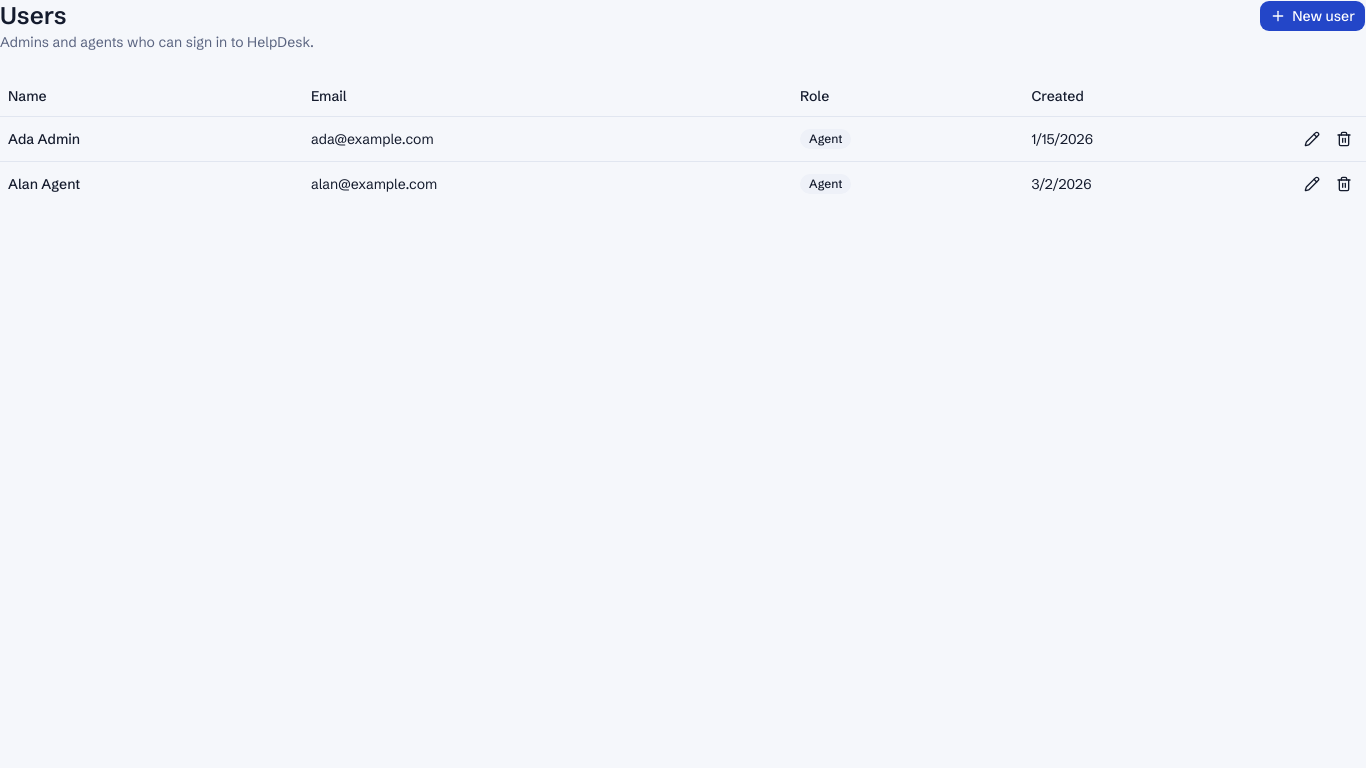
Test: UsersPage › Edit user dialog › closes and reloads the users after saving
Expected: the table is shown, left=0, top=76, right=1365, bottom=206
Click the button named "Edit Alan Agent".
click(1312, 184)  # box left=1298, top=170, right=1326, bottom=198
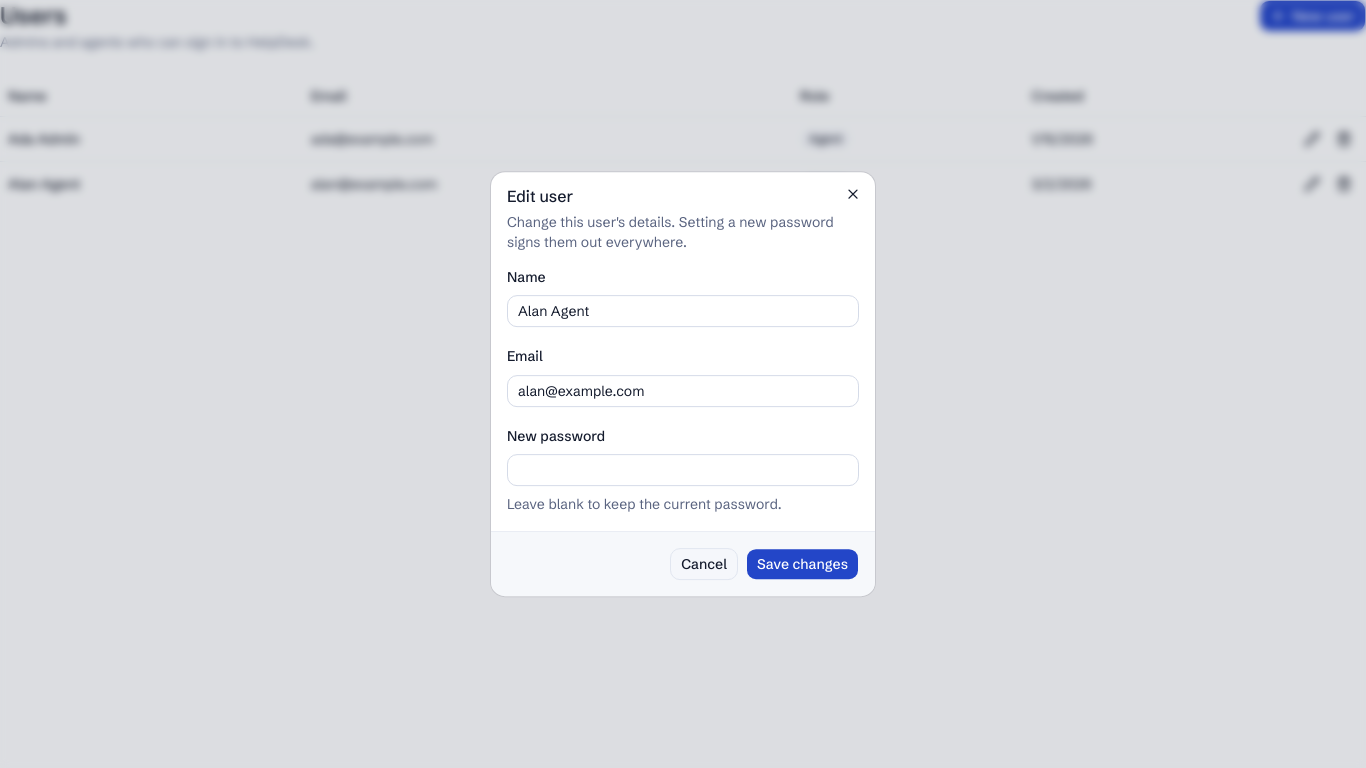
Replace the text in the field labelled "Name" with "Alan Turing" at (683, 311), box left=507, top=295, right=859, bottom=327
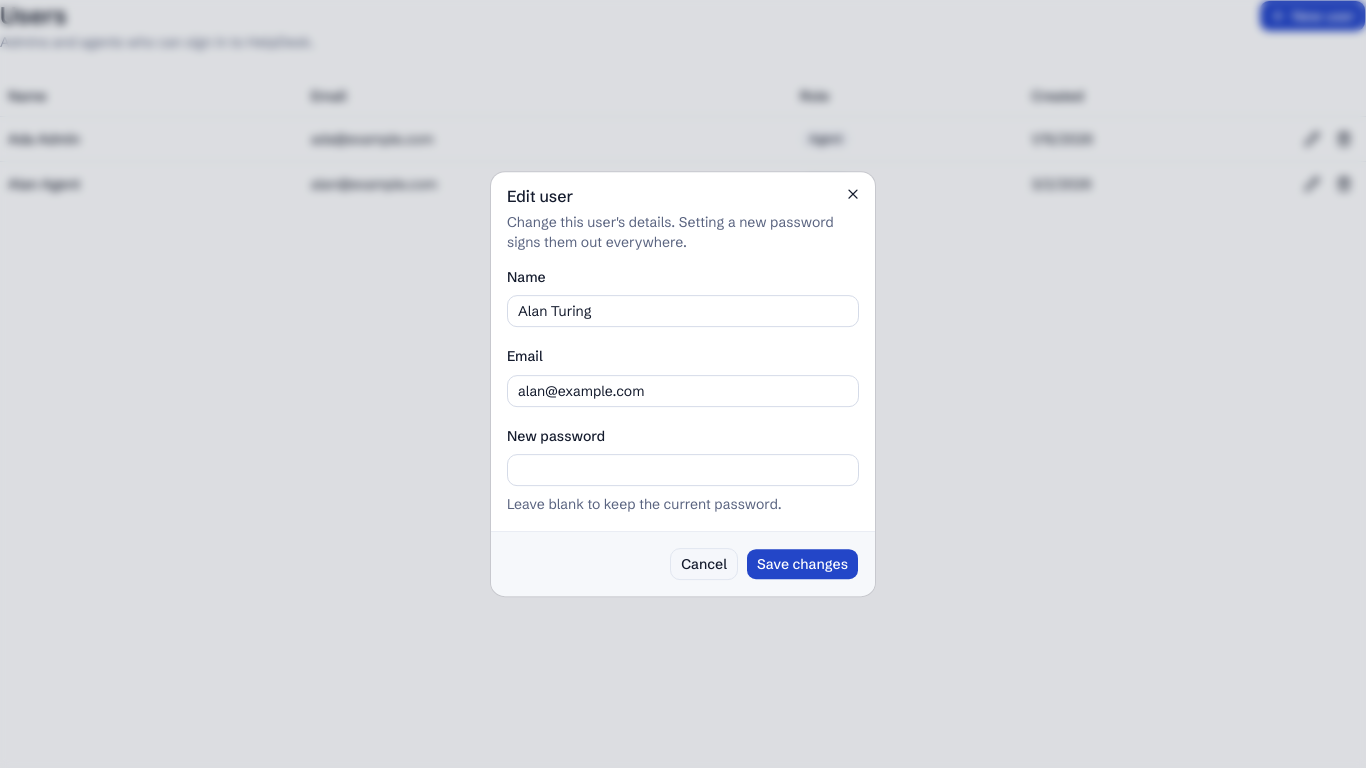
Click the button "Save changes".
click(802, 564)  # box left=746, top=548, right=859, bottom=580
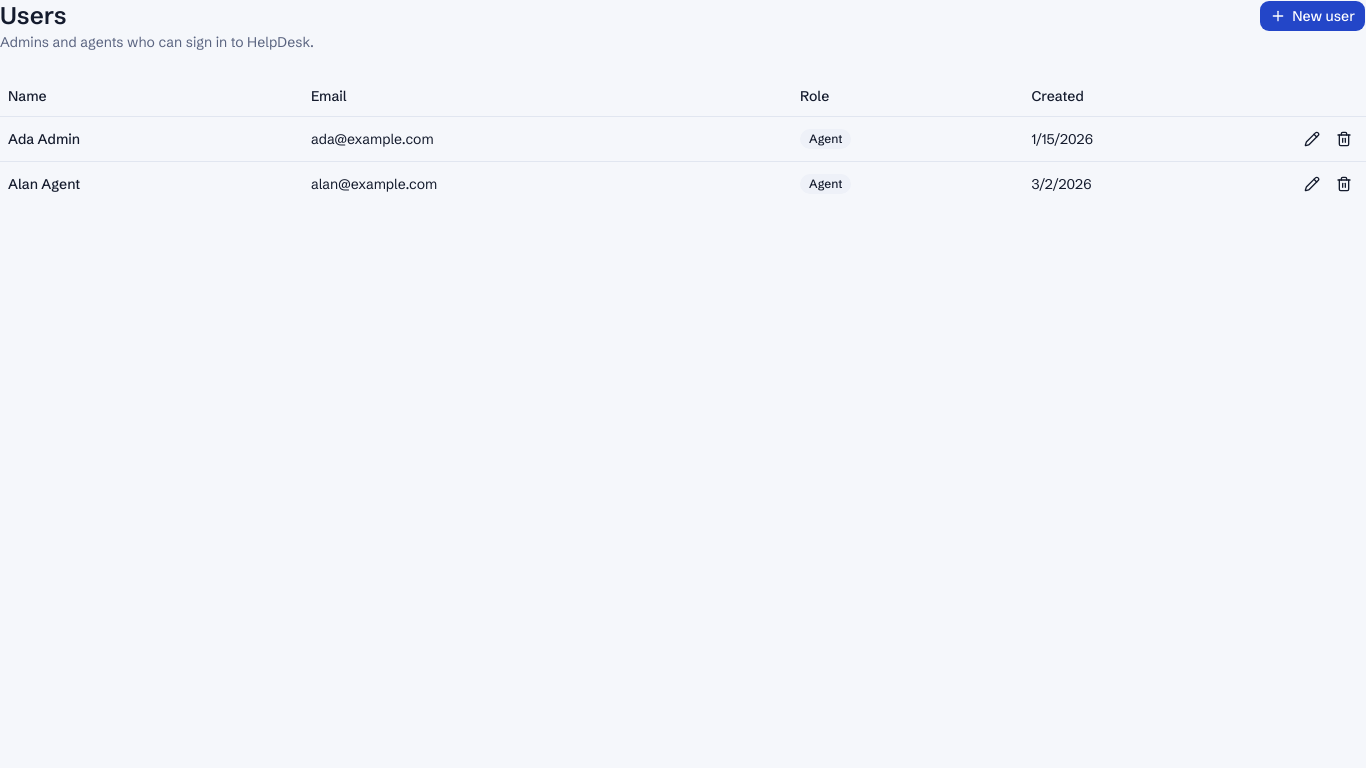
Result: the heading "Edit user" is gone
